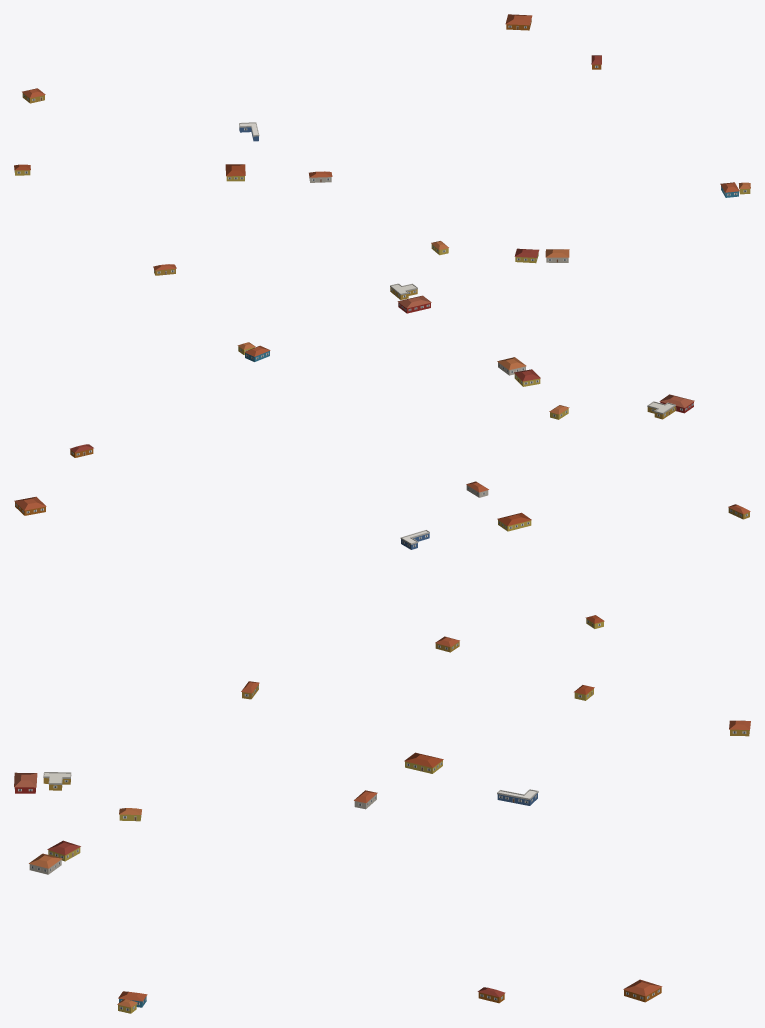
The model's file is msb_sannicolas_14_22.glb.
The picture shows the model from 3 angles, top to bottom: view 1: azimuth 30°, elevation 25°; view 2: azimuth 150°, elevation 25°; view 3: azimuth 270°, elevation 25°; orthographic projection. The views are drawn at different scales.
Visible parts, largest first — view 1: msb_sannicolas_14_22_lod0; view 2: msb_sannicolas_14_22_lod0; view 3: msb_sannicolas_14_22_lod0.
Part boxes in pixels (left/top/right/bottom): msb_sannicolas_14_22_lod0: left=14, top=14, right=750, bottom=313; msb_sannicolas_14_22_lod0: left=14, top=342, right=750, bottom=652; msb_sannicolas_14_22_lod0: left=14, top=681, right=750, bottom=1013.
Size of what is drawn, in the model's own units: 365 by 16.28 by 356.
3 materials, 1 textured.
